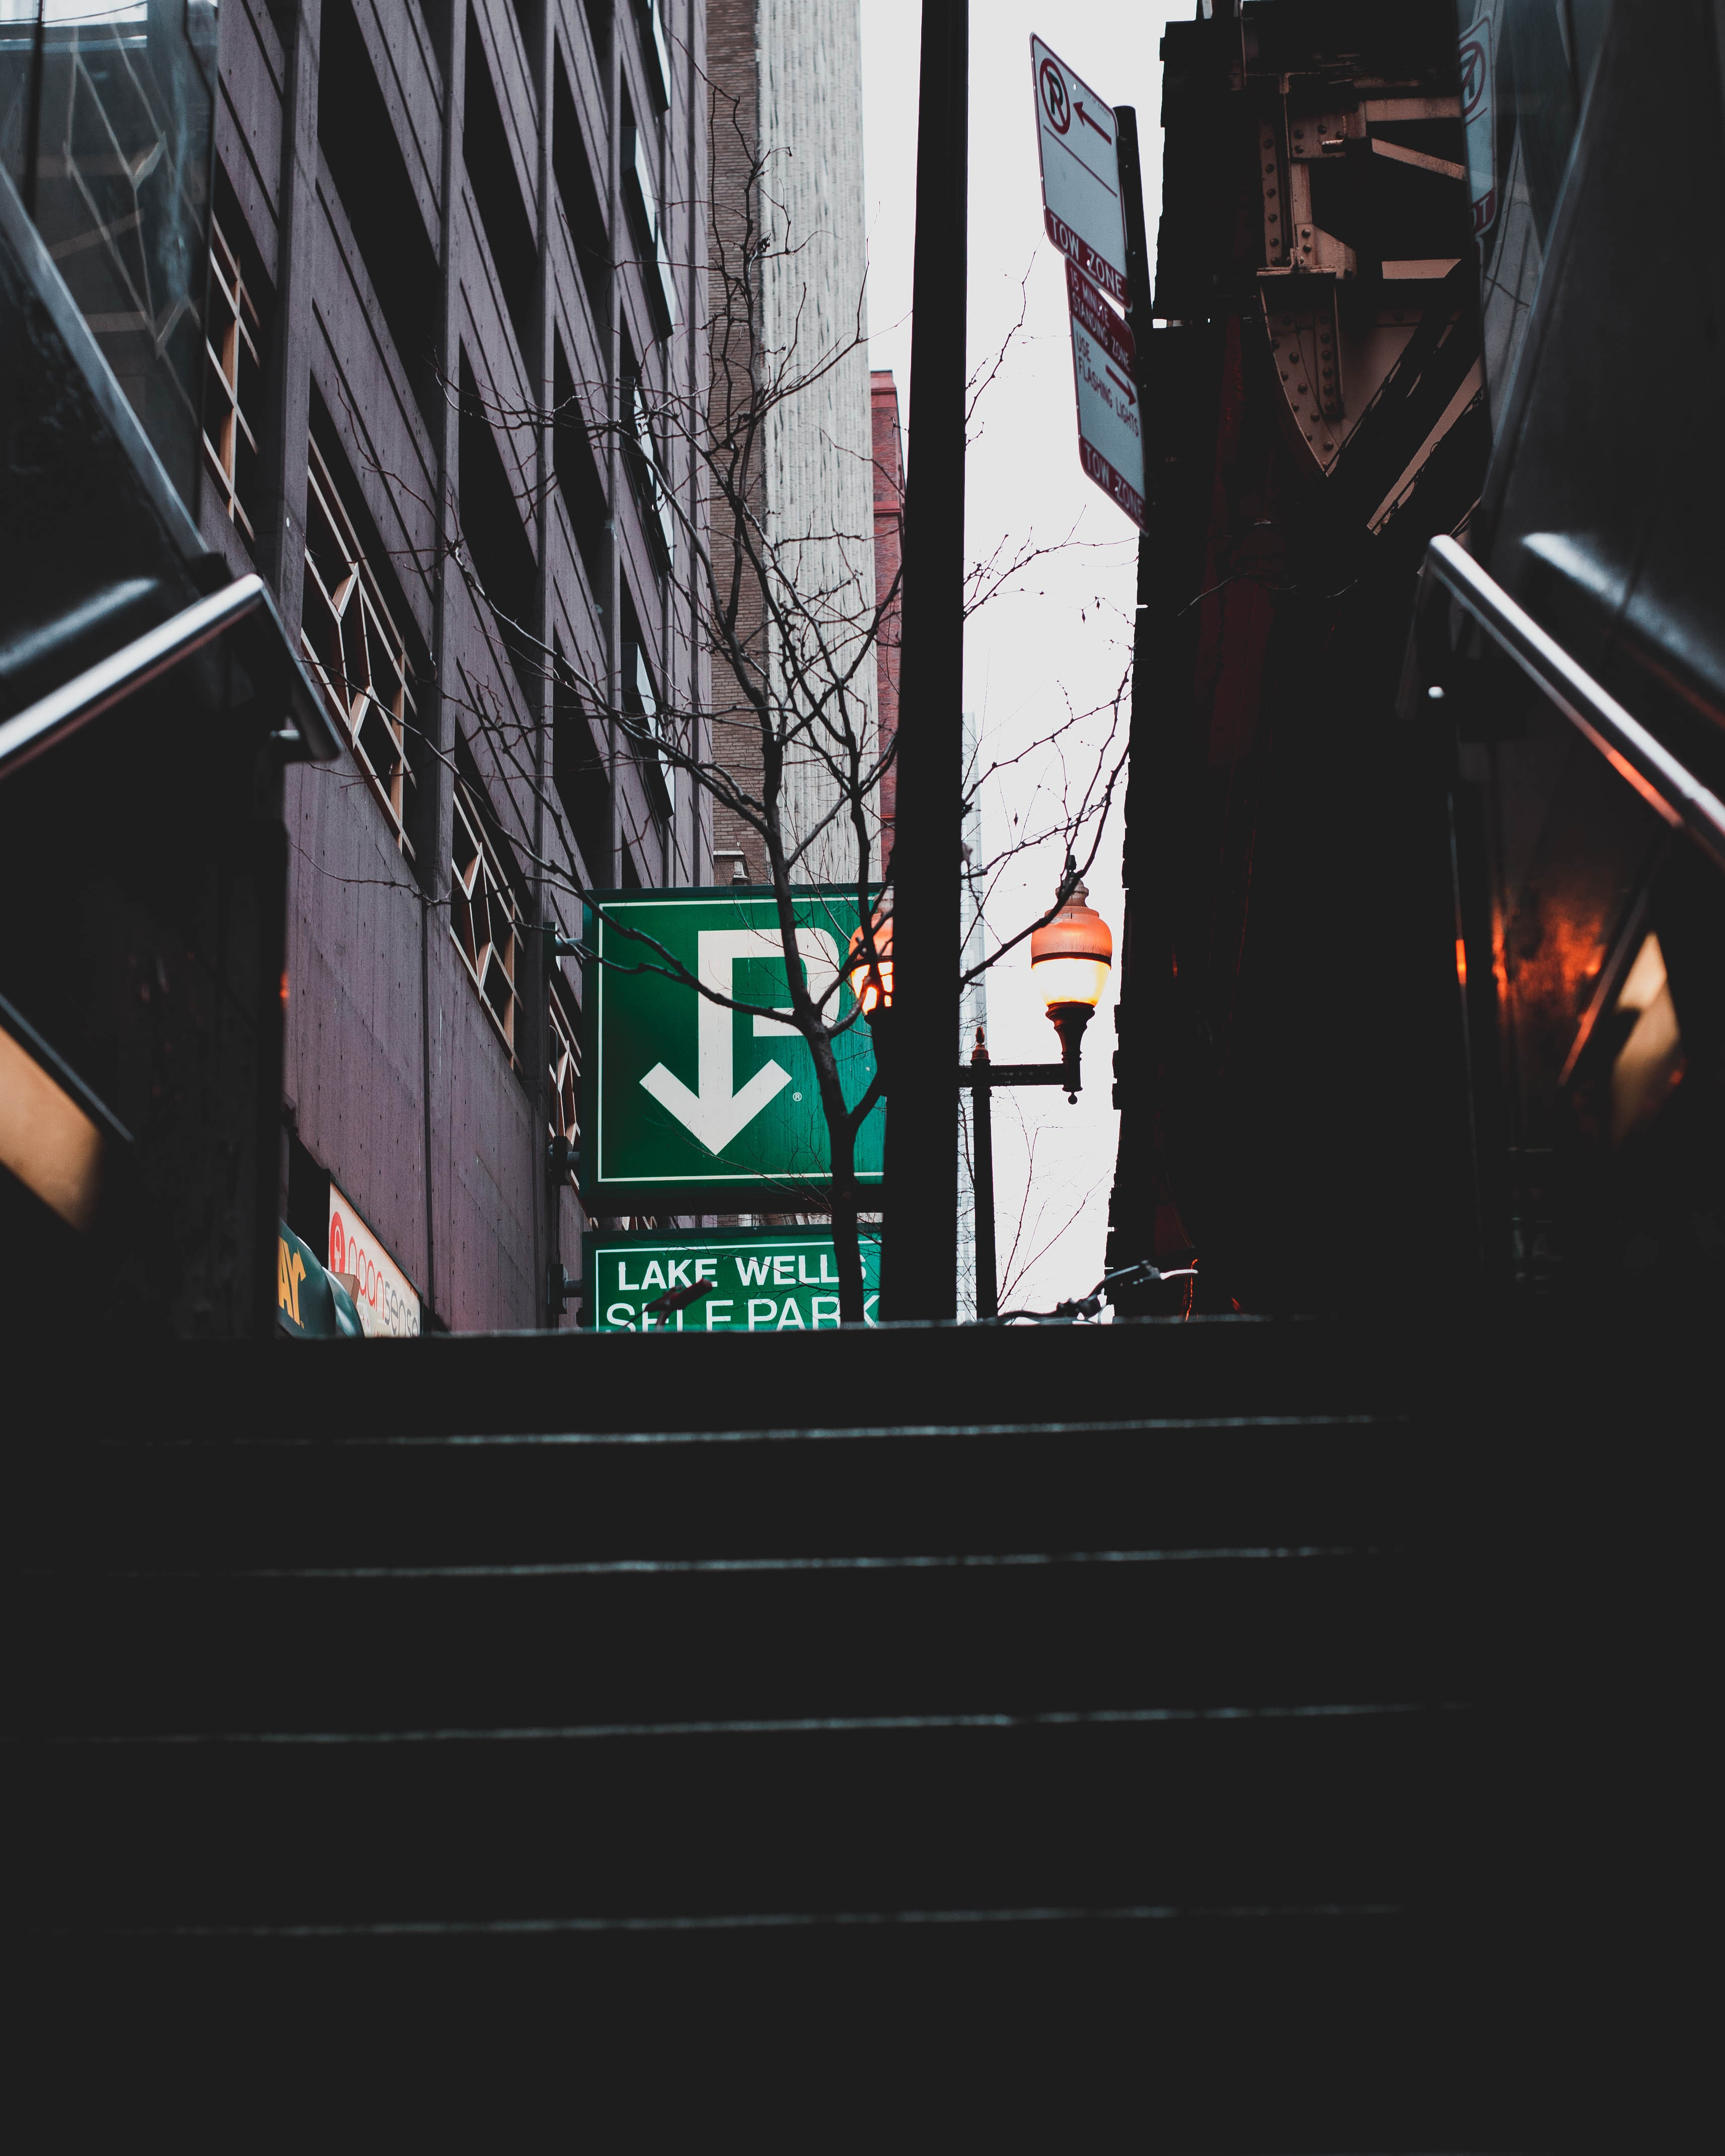upstairs: (194, 1332, 1355, 2149)
